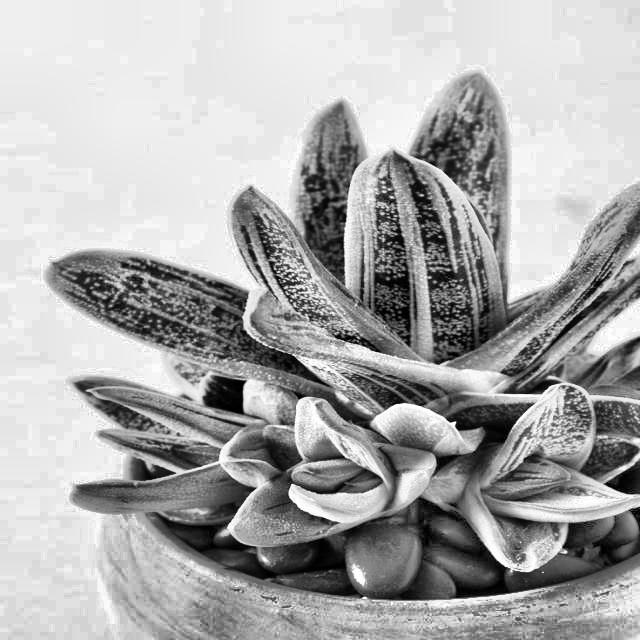plants: (58, 81, 640, 640)
